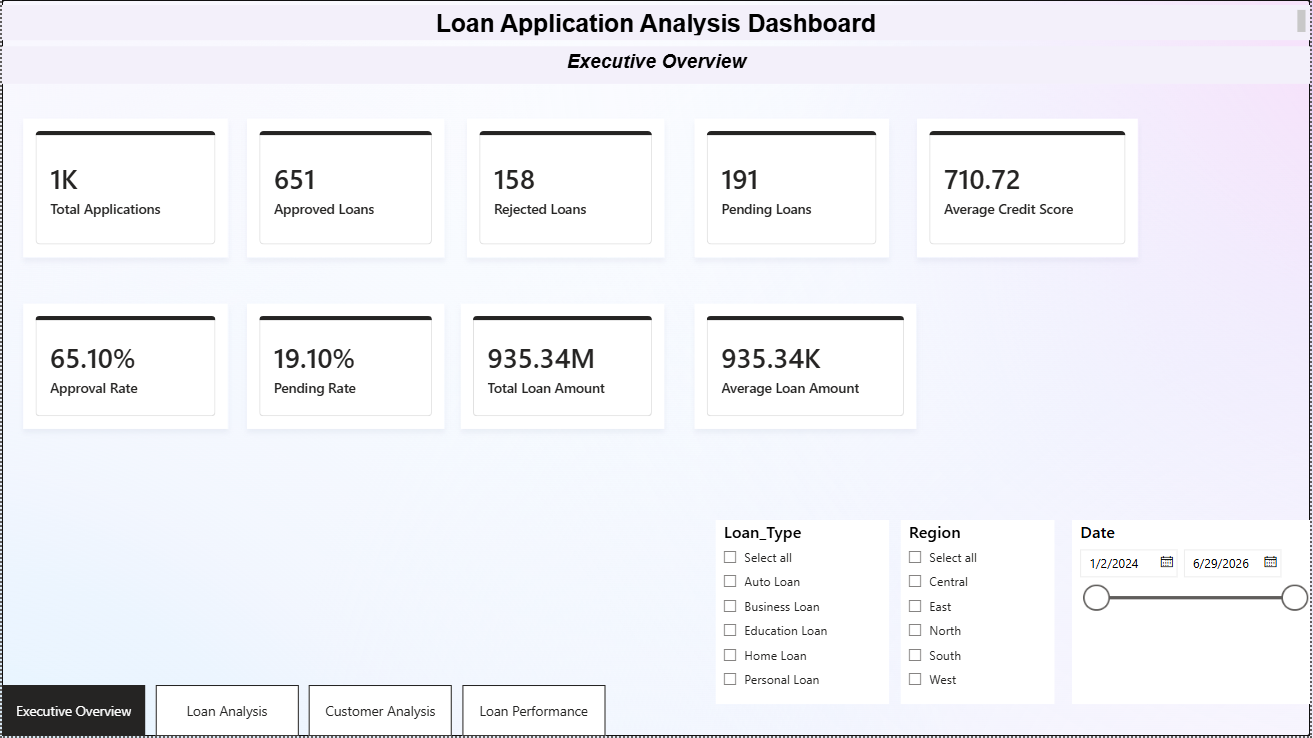

Layout of this report page (visuals, bound fields, positions):
{"tool":"powerbi","page":{"name":"Executive Overview","canvas":[1280,720],"ordinal":0},"visuals":[{"type":"cardVisual","fields":{"Data":["Fact_Loans.Approval Rate"]},"box":[20.8,297.1,200.5,122.3],"z":0},{"type":"cardVisual","fields":{"Data":["Fact_Loans.Approved Loans"]},"box":[239.7,116.2,193.2,135.7],"z":1000},{"type":"cardVisual","fields":{"Data":["Fact_Loans.Average Credit Score"]},"box":[895.1,116.2,216.4,135.7],"z":2000},{"type":"cardVisual","fields":{"Data":["Fact_Loans.Average Loan Amount"]},"box":[677.4,297.1,217.7,122.3],"z":3000},{"type":"cardVisual","fields":{"Data":["Fact_Loans.Rejected Loans"]},"box":[454.9,116.2,193.2,135.7],"z":4000},{"type":"cardVisual","fields":{"Data":["Fact_Loans.Total Applications"]},"box":[20.8,116.2,200.5,135.7],"z":5000},{"type":"cardVisual","fields":{"Data":["Fact_Loans.Total Loan Amount"]},"box":[448.8,297.1,199.3,122.3],"z":6000},{"type":"cardVisual","fields":{"Data":["Fact_Loans.Pending Loans"]},"box":[677.4,116.2,190.8,135.7],"z":7000},{"type":"slicer","fields":{"Values":["Dim_Branch.Region"]},"box":[879.2,508.7,150.4,179.8],"z":8000},{"type":"slicer","fields":{"Values":["Dim_Loantype.Loan_Type"]},"box":[698.2,508.7,170,179.8],"z":9000},{"type":"slicer","fields":{"Values":["Dim_Date.Date"]},"box":[1046.7,508.7,233.6,179.8],"z":10000},{"type":"cardVisual","fields":{"Data":["Fact_Loans.Pending Rate"]},"box":[239.7,297.1,193.2,122.3],"z":11000},{"type":"textbox","box":[0,4.9,1280.3,34.2],"z":12000},{"type":"textbox","box":[0,45.2,1280.3,36.7],"z":13000},{"type":"pageNavigator","box":[0,670.1,590.6,50.1],"z":13001}]}

Visuals, with their boxes in screenshot pixels (x1, y1, x2, y2), scaled from the page's 1280x720 canvas onto the 1313x738 screenshot:
cardVisual - Fact_Loans.Approval Rate: bbox(21, 305, 227, 430)
cardVisual - Fact_Loans.Approved Loans: bbox(246, 119, 444, 258)
cardVisual - Fact_Loans.Average Credit Score: bbox(918, 119, 1140, 258)
cardVisual - Fact_Loans.Average Loan Amount: bbox(695, 305, 918, 430)
cardVisual - Fact_Loans.Rejected Loans: bbox(467, 119, 665, 258)
cardVisual - Fact_Loans.Total Applications: bbox(21, 119, 227, 258)
cardVisual - Fact_Loans.Total Loan Amount: bbox(460, 305, 665, 430)
cardVisual - Fact_Loans.Pending Loans: bbox(695, 119, 891, 258)
slicer - Dim_Branch.Region: bbox(902, 521, 1056, 706)
slicer - Dim_Loantype.Loan_Type: bbox(716, 521, 891, 706)
slicer - Dim_Date.Date: bbox(1074, 521, 1312, 706)
cardVisual - Fact_Loans.Pending Rate: bbox(246, 305, 444, 430)
textbox: bbox(0, 5, 1312, 40)
textbox: bbox(0, 46, 1312, 84)
pageNavigator: bbox(0, 687, 606, 737)
